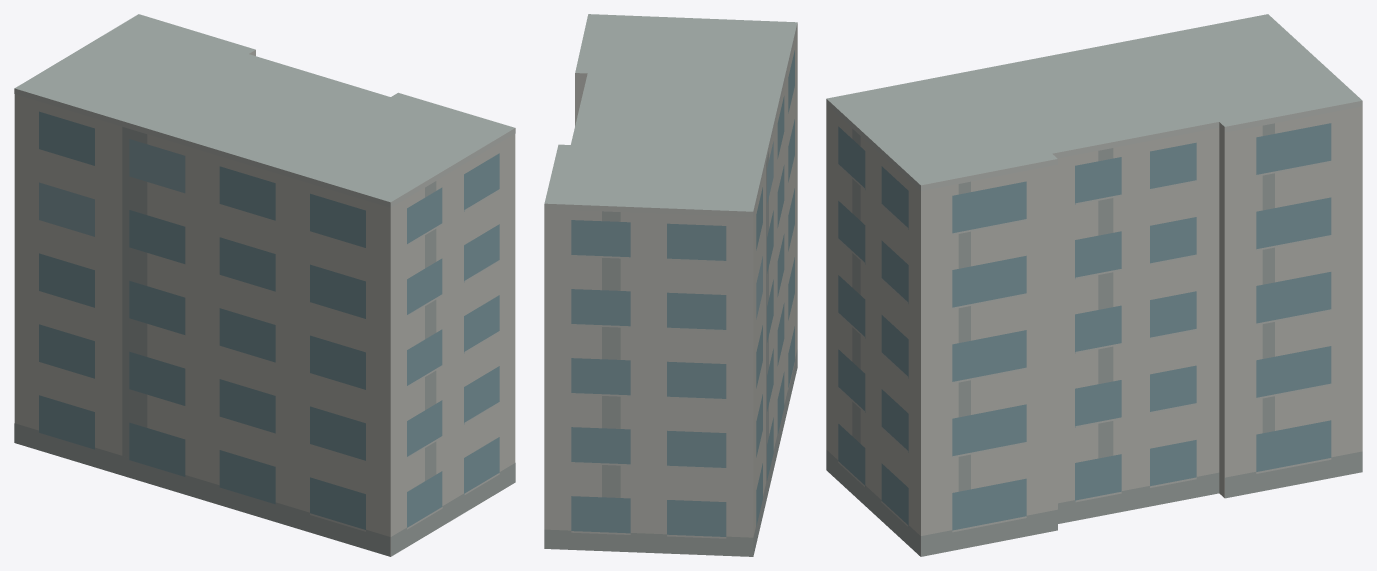
The model's file is survey-upis-32814773.glb.
3 renders of one model, left to right at view 1: azimuth 30°, elevation 25°; view 2: azimuth 150°, elevation 25°; view 3: azimuth 270°, elevation 25°, orthographic. The views are drawn at different scales.
Parts seen in each view (by area): view 1: survey-upis-32814773.tmp; view 2: survey-upis-32814773.tmp; view 3: survey-upis-32814773.tmp.
Part boxes in pixels (x1,y1,x2,y2): survey-upis-32814773.tmp: (14,14,515,556); survey-upis-32814773.tmp: (544,14,797,556); survey-upis-32814773.tmp: (826,14,1362,556).
Bounding box in the file's own units: 15.1 × 15.25 × 19.97.
